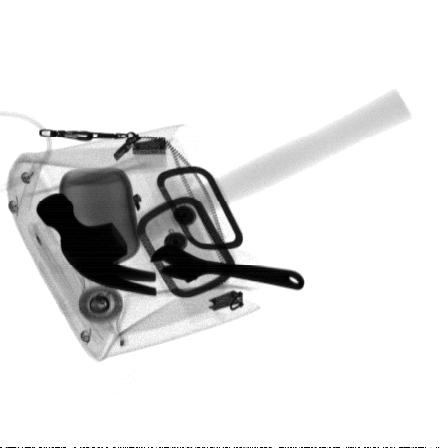Hammer: (36, 89, 413, 296)
Wrench: (149, 243, 305, 290)
